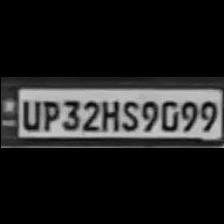0: (157, 96, 179, 132)
2: (79, 96, 99, 132)
3: (61, 96, 79, 130)
9: (196, 96, 218, 132), (138, 96, 158, 132), (178, 97, 198, 131)
H: (99, 96, 119, 130)
P: (38, 97, 58, 130)
S: (118, 96, 140, 132)
U: (16, 96, 40, 130)
